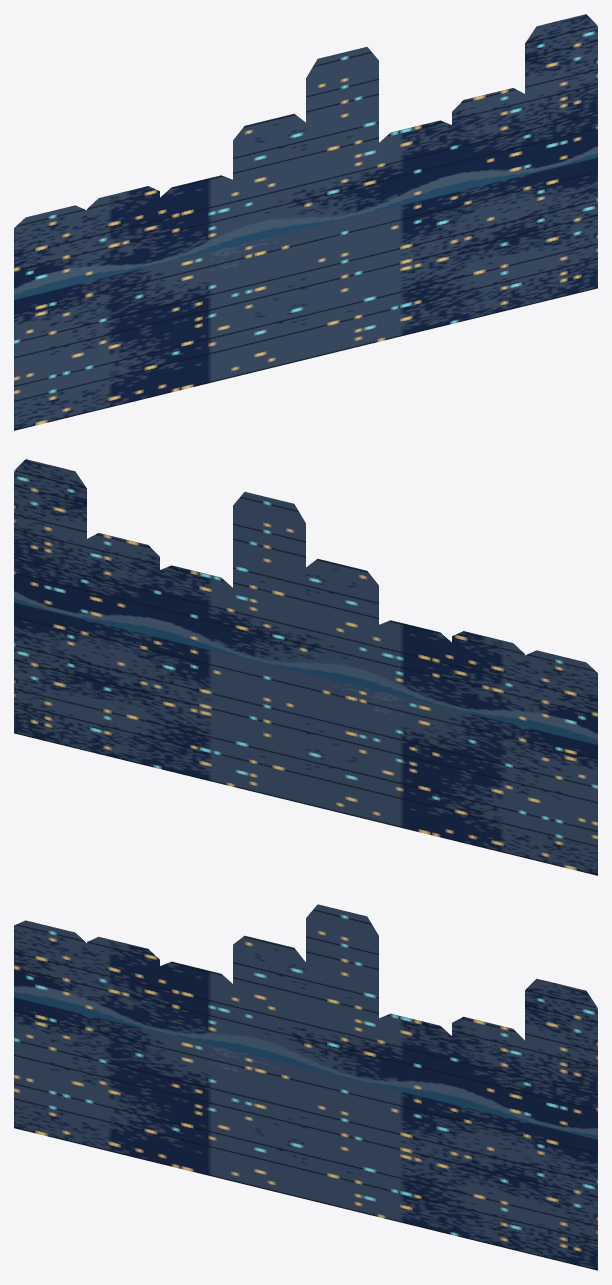
File: cysky.near__low.glb
The picture shows the model from 3 angles, top to bottom: view 1: azimuth 30°, elevation 25°; view 2: azimuth 150°, elevation 25°; view 3: azimuth 330°, elevation 25°; orthographic projection.
Parts seen in each view (by area): view 1: kit_card_skyline; view 2: kit_card_skyline; view 3: kit_card_skyline.
Boxes of the visible parts, x1,y1,x2,y2 form: kit_card_skyline: (14,14,597,430); kit_card_skyline: (14,459,597,875); kit_card_skyline: (14,904,597,1270).
Size of the model in its own units: 56 by 27.3 by 0.
1 material, 1 textured.
